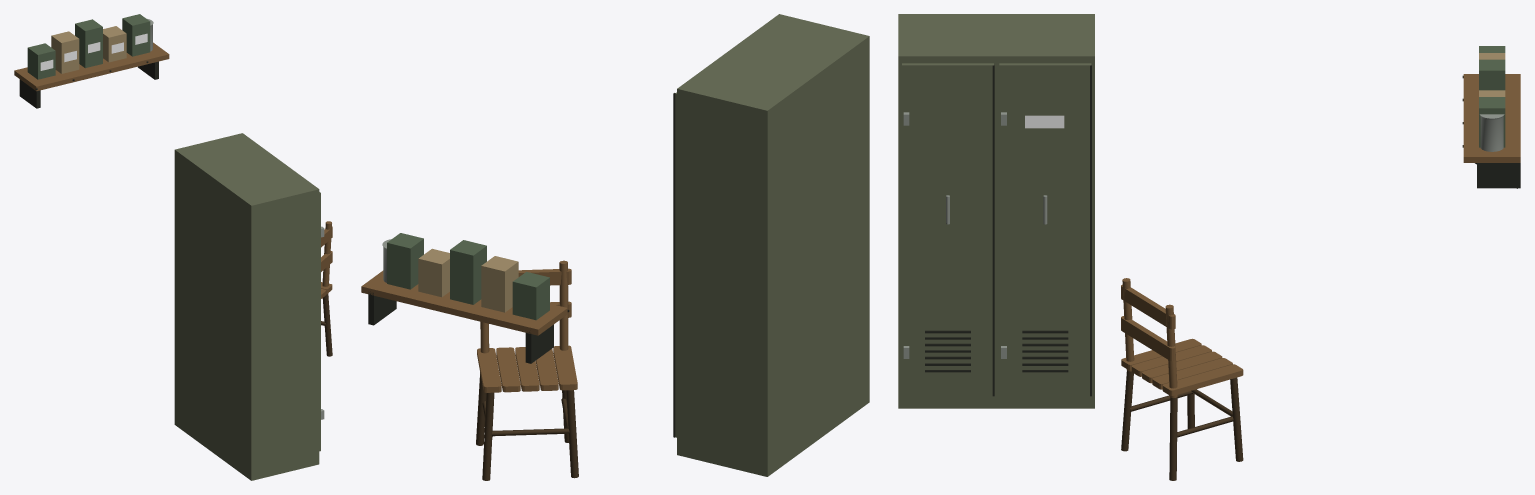
File: SM_FieldStation_Hut_Props.fbx
3 renders of one model, left to right at view 1: azimuth 30°, elevation 25°; view 2: azimuth 150°, elevation 25°; view 3: azimuth 270°, elevation 25°, orthographic. The views are drawn at different scales.
Parts seen in each view (by area): view 1: SM_FieldStation_Hut_Props; view 2: SM_FieldStation_Hut_Props; view 3: SM_FieldStation_Hut_Props.
Boxes of the visible parts, x1,y1,x2,y2 form: SM_FieldStation_Hut_Props: (14,14,332,480); SM_FieldStation_Hut_Props: (361,14,869,480); SM_FieldStation_Hut_Props: (898,14,1520,480).
Size of the model in its own units: 1.27 by 2.85 by 1.78.
